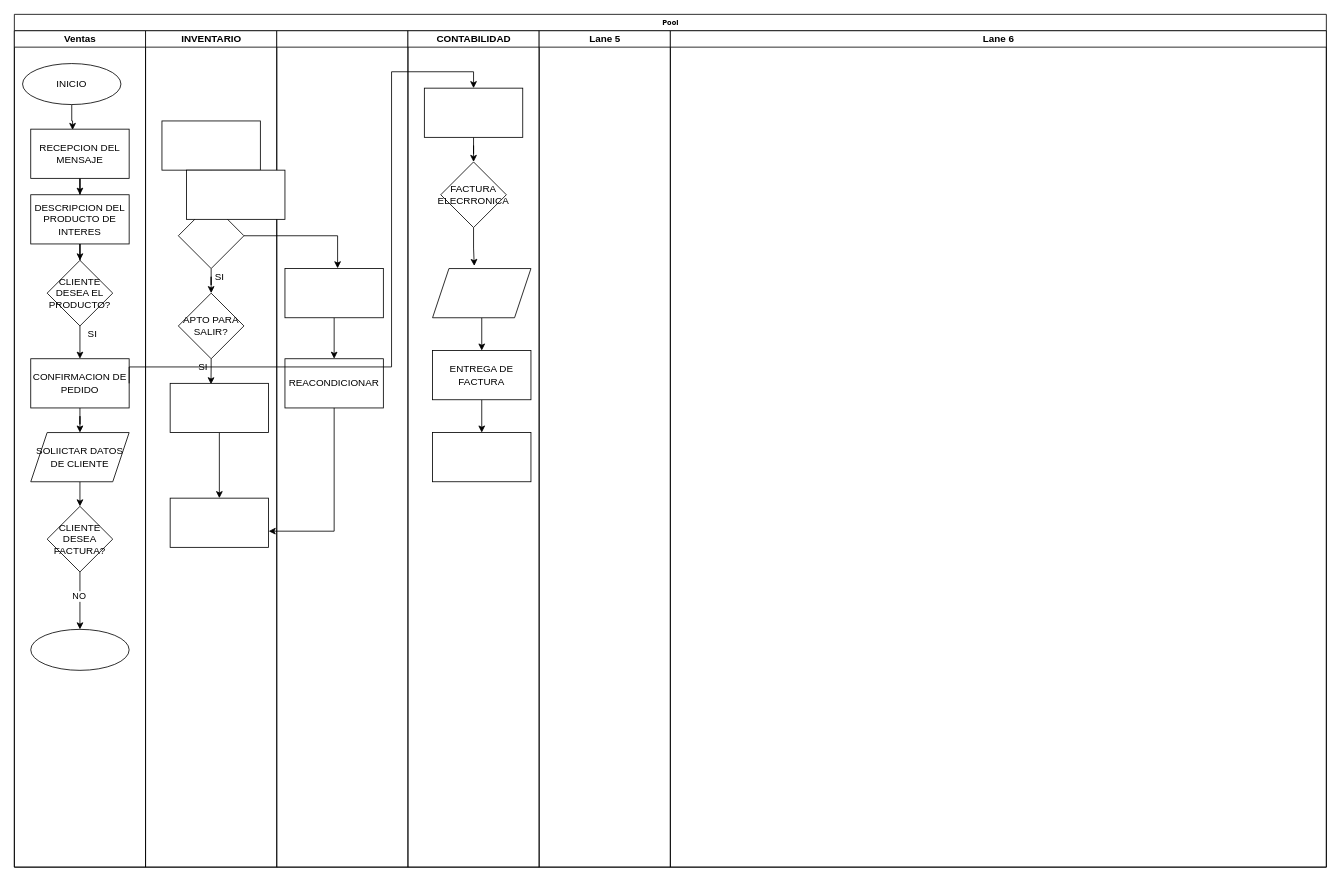
This 1341x882 diagram has some shape labels left out. The centre of each missing label's shape, as x and y in pixels:
CREACION DE FACTURA: point 473,112
ENTREGA DE PRODUCTO: point 219,408
FIN: point 79,649
HAY STOCK SUFICIENTE: point 211,235
RECEPCION DE SOLICITUD DE BODEGA: point 210,145
REGISTRO DE ACTIVDIAD: point 481,457
REGISTRO DE ACTIVIDAD: point 219,522
RESTOCK: point 333,293
SOLICITAR DATOS DE FACTURACION: point 481,293
